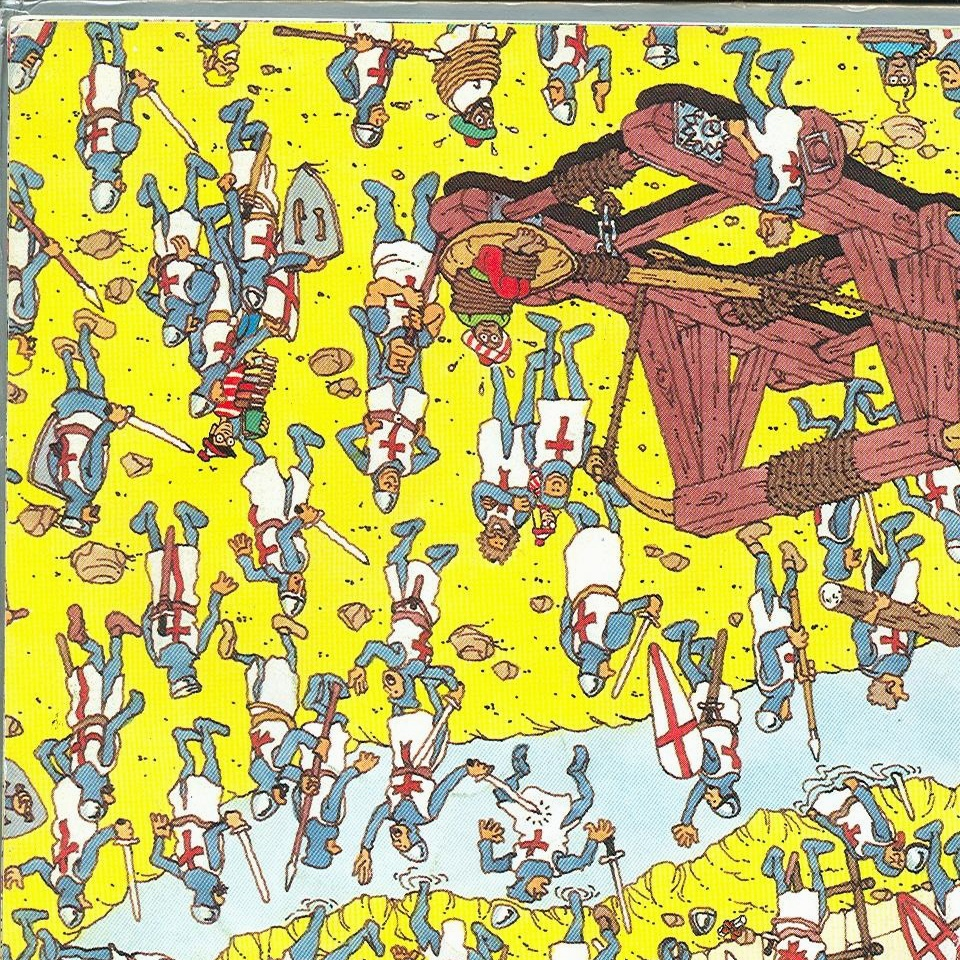waldo: (199, 414, 246, 462)
